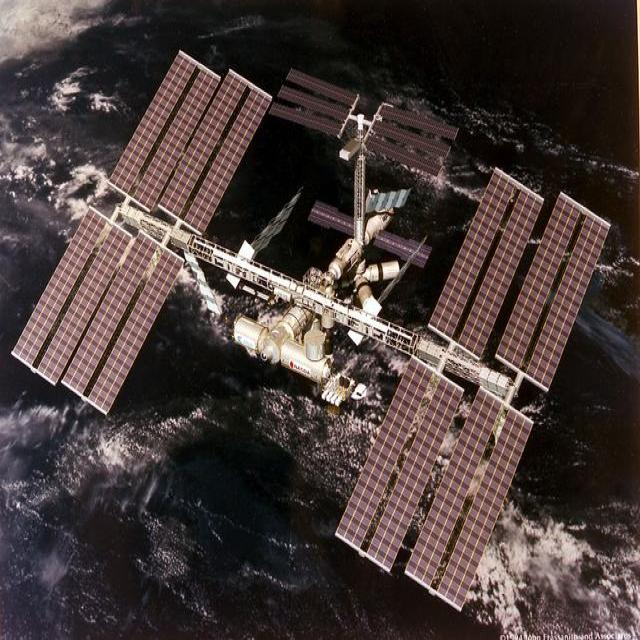medium_debris: (24, 53, 610, 609)
